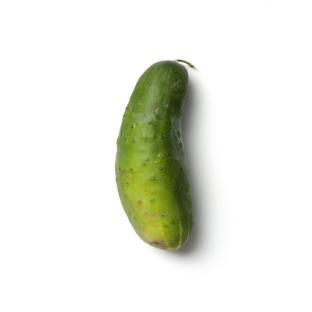Cucumber: (116, 61, 192, 251)
